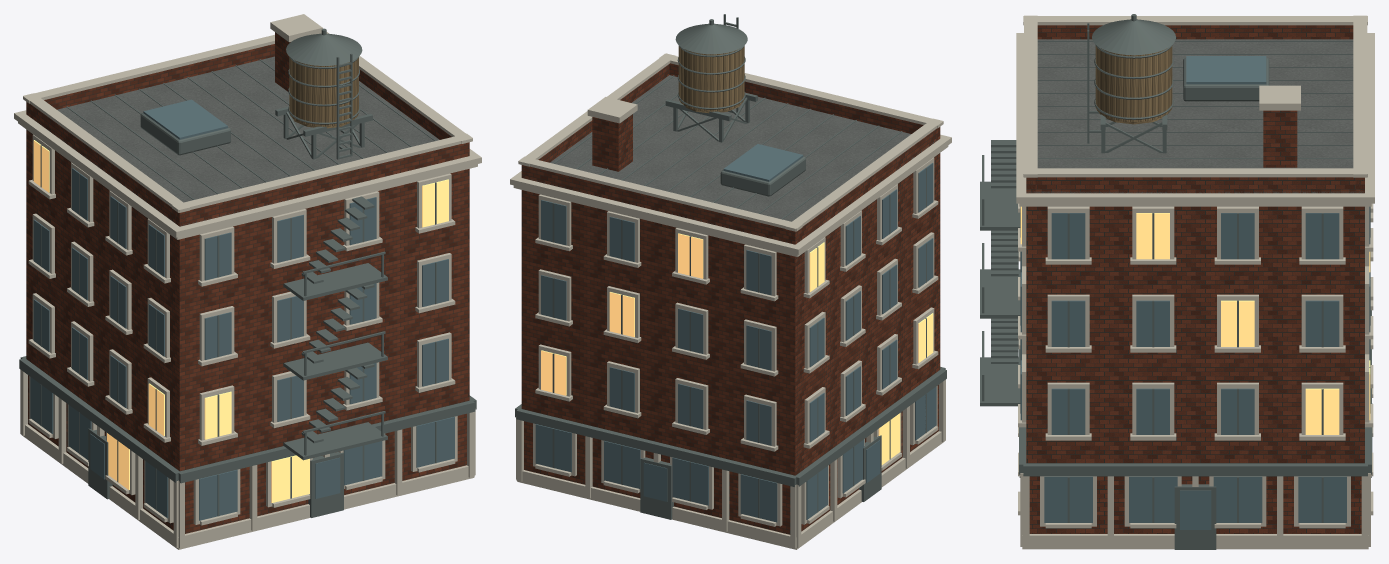
Rendered from tenement.glb.
3 views of the same model, side by side, from view 1: azimuth 30°, elevation 25°; view 2: azimuth 150°, elevation 25°; view 3: azimuth 270°, elevation 25° (orthographic). The views are drawn at different scales.
Visible parts, largest first — view 1: masonry, foundation, roof tar seam, window pane, roof, window pane.001, tank floor; view 2: masonry, foundation, window pane, roof, roof tar seam, window pane.001, tank floor; view 3: masonry, foundation, window pane, roof tar seam, roof, window pane.001, tank floor.
Part boxes in pixels (x1=…): masonry: x1=26, y1=32, x2=469, y2=533; foundation: x1=14, y1=14, x2=481, y2=549; roof tar seam: x1=19, y1=28, x2=476, y2=517; window pane: x1=30, y1=99, x2=454, y2=520; roof: x1=33, y1=56, x2=449, y2=226; window pane.001: x1=33, y1=140, x2=448, y2=502; tank floor: x1=289, y1=57, x2=358, y2=128; masonry: x1=521, y1=63, x2=940, y2=534; foundation: x1=510, y1=53, x2=951, y2=549; window pane: x1=535, y1=144, x2=936, y2=522; roof: x1=529, y1=75, x2=936, y2=242; roof tar seam: x1=515, y1=14, x2=946, y2=519; window pane.001: x1=541, y1=233, x2=933, y2=464; tank floor: x1=678, y1=46, x2=744, y2=113; masonry: x1=1026, y1=25, x2=1364, y2=533; foundation: x1=1016, y1=15, x2=1374, y2=549; window pane: x1=1020, y1=56, x2=1372, y2=529; roof tar seam: x1=980, y1=14, x2=1371, y2=549; roof: x1=1026, y1=39, x2=1364, y2=193; window pane.001: x1=1020, y1=206, x2=1370, y2=434; tank floor: x1=1095, y1=46, x2=1172, y2=124.
Size of the model in its own units: 12.65 by 17.23 by 12.82.
7 materials, 3 textured.
